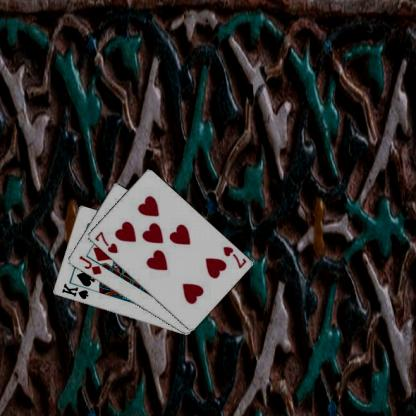7H: (220, 244, 248, 270), (92, 229, 119, 255)
JD: (76, 253, 102, 276)
KS: (59, 281, 89, 300)
